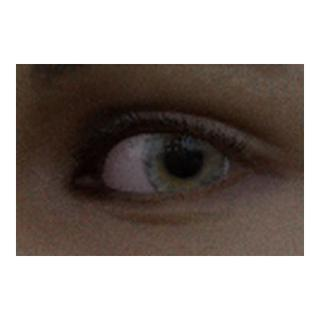pupil: (165, 139, 203, 178)
